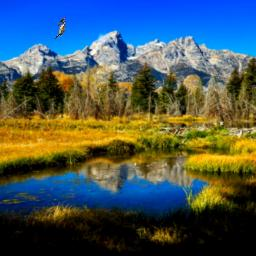Woodpecker: (55, 18, 65, 39)
